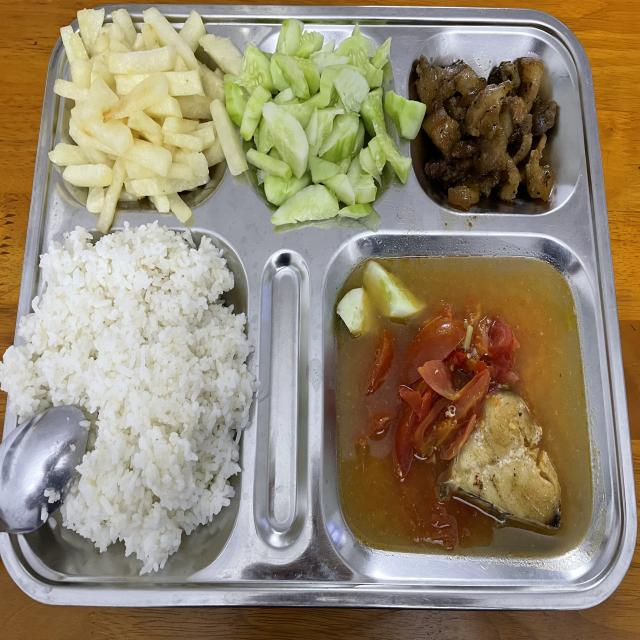ca kho: (452, 400, 565, 536)
com: (0, 221, 257, 572), (421, 55, 556, 201)
dua leo: (239, 18, 410, 210)
